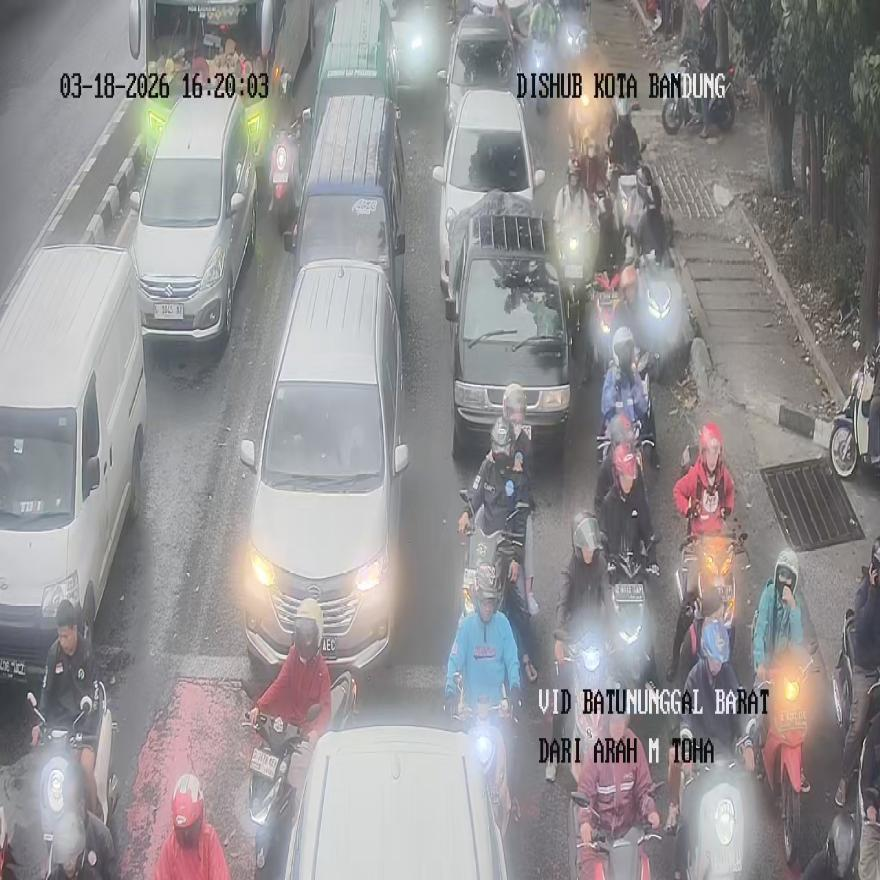Motor: (239, 260, 408, 671), (0, 243, 146, 683), (283, 716, 508, 878), (444, 198, 572, 456), (129, 93, 256, 346), (284, 94, 405, 306), (432, 87, 544, 297), (310, 0, 397, 139)
Truk: (28, 683, 118, 875), (754, 655, 820, 868), (459, 490, 531, 683), (247, 704, 324, 873), (671, 529, 747, 691), (674, 727, 754, 878), (450, 674, 517, 840), (833, 608, 880, 816), (606, 545, 659, 710), (570, 791, 661, 880), (555, 629, 608, 780), (598, 348, 656, 470), (828, 348, 878, 479), (662, 52, 734, 134), (637, 250, 682, 381), (559, 225, 593, 370), (267, 110, 306, 230), (589, 269, 622, 374), (530, 35, 551, 115)
